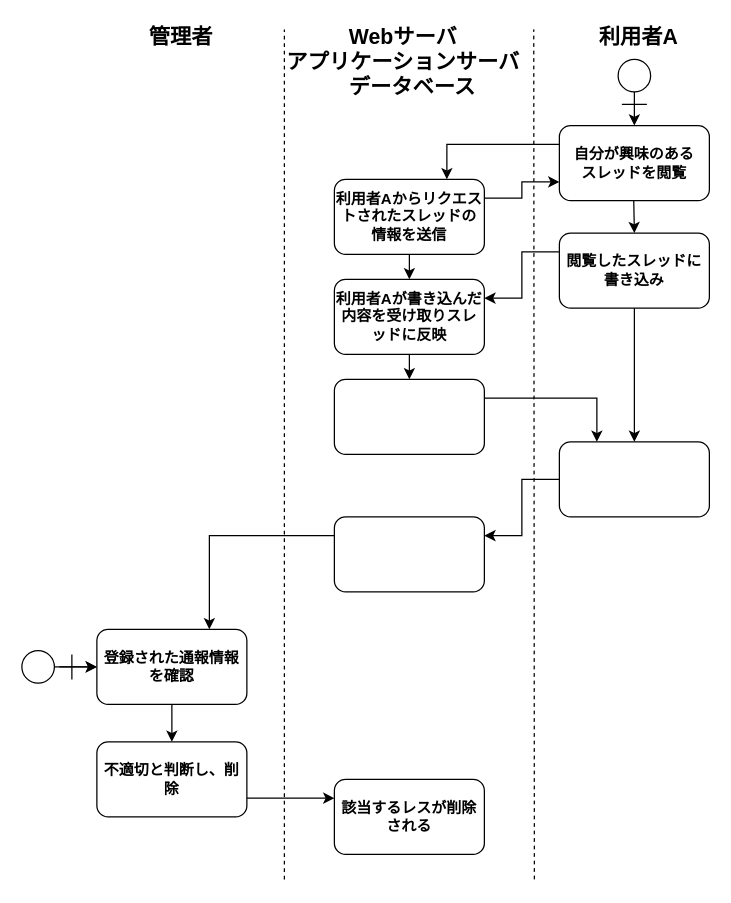
Some shapes in this 731 by 903 pixel diagram are drawn without their labels. Here are the shapes that lost their labels. From the top down, the centre of each, then its label:
At pixel 408 416: "他ユーザの書き込み内容を反映".
At pixel 633 479: "自身に対する誹謗中傷的なレスを発見し通報".
At pixel 408 554: "通報内容及び通報理由をデータベースに追加".
